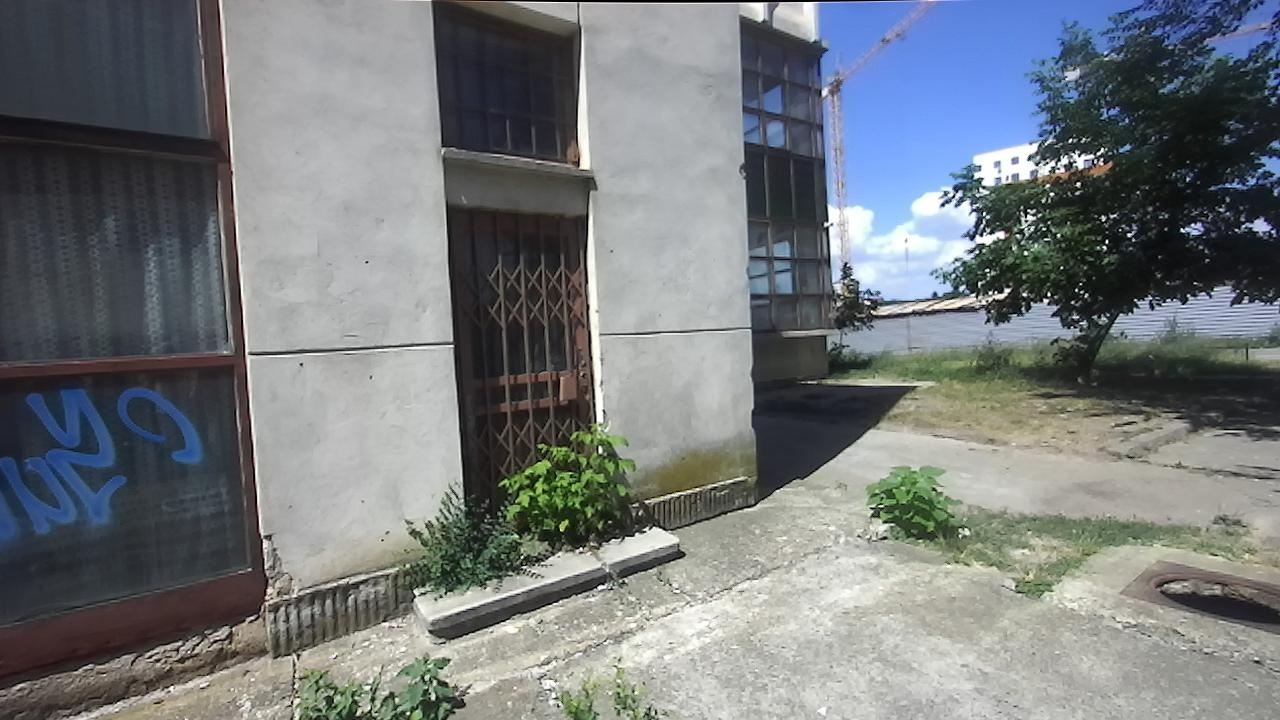drain: (1143, 568, 1279, 631)
